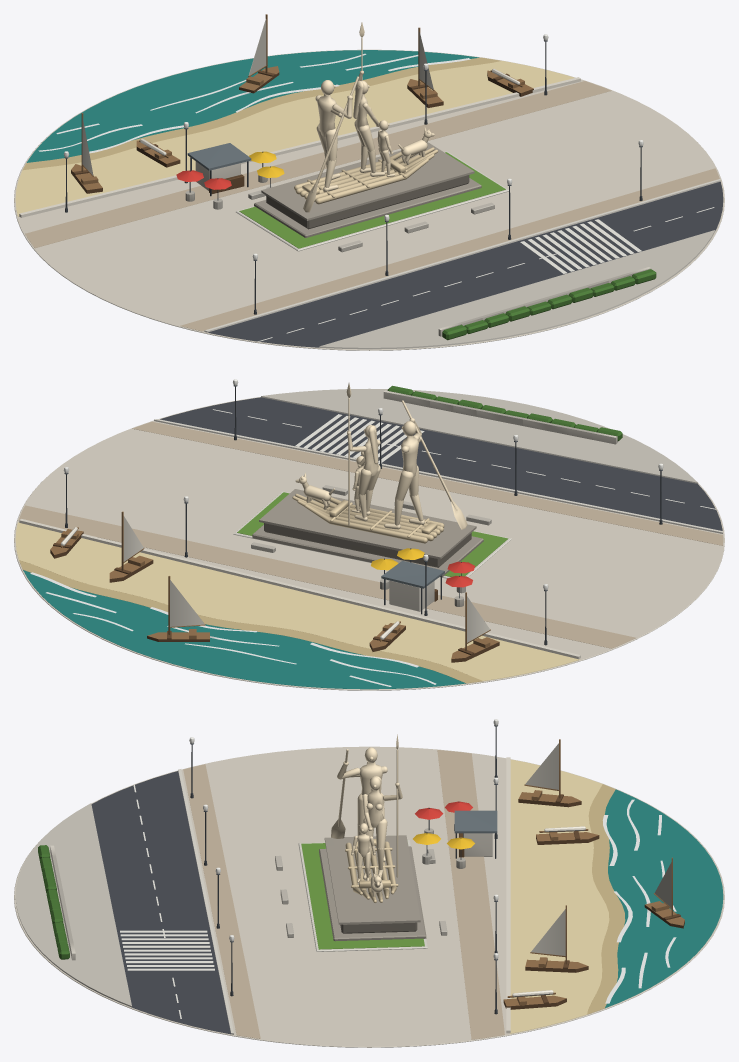
Rendered from iracemaMartim-pecas.glb.
3 views of the same model, one above another, from view 1: azimuth 30°, elevation 25°; view 2: azimuth 150°, elevation 25°; view 3: azimuth 270°, elevation 25° (orthographic).
Visible parts, largest first — view 1: Chao_Pisos, Chao_Base, Orla_Calcadao, Pedestal_Escultura, Escultura_Figuras, Escultura_Jangada; view 2: Chao_Pisos, Chao_Base, Orla_Calcadao, Pedestal_Escultura, Escultura_Figuras, Escultura_Jangada; view 3: Chao_Pisos, Chao_Base, Orla_Calcadao, Pedestal_Escultura, Escultura_Figuras, Escultura_Jangada.
Part boxes in pixels (left/top/right/bottom): Chao_Pisos: left=15, top=50, right=723, bottom=349; Chao_Base: left=14, top=49, right=724, bottom=350; Orla_Calcadao: left=38, top=14, right=656, bottom=340; Pedestal_Escultura: left=254, top=142, right=481, bottom=237; Escultura_Figuras: left=303, top=22, right=434, bottom=212; Escultura_Jangada: left=294, top=147, right=438, bottom=204; Chao_Pisos: left=15, top=388, right=723, bottom=689; Chao_Base: left=14, top=397, right=724, bottom=690; Orla_Calcadao: left=30, top=379, right=663, bottom=686; Pedestal_Escultura: left=252, top=489, right=483, bottom=577; Escultura_Figuras: left=295, top=382, right=467, bottom=529; Escultura_Jangada: left=292, top=493, right=444, bottom=543; Chao_Pisos: left=15, top=750, right=723, bottom=1039; Chao_Base: left=14, top=746, right=724, bottom=1047; Orla_Calcadao: left=38, top=719, right=684, bottom=1014; Pedestal_Escultura: left=319, top=835, right=426, bottom=941; Escultura_Figuras: left=331, top=734, right=402, bottom=901; Escultura_Jangada: left=345, top=839, right=398, bottom=902.
Bounding box in the file's own units: 66.8 × 17.37 × 66.8.
